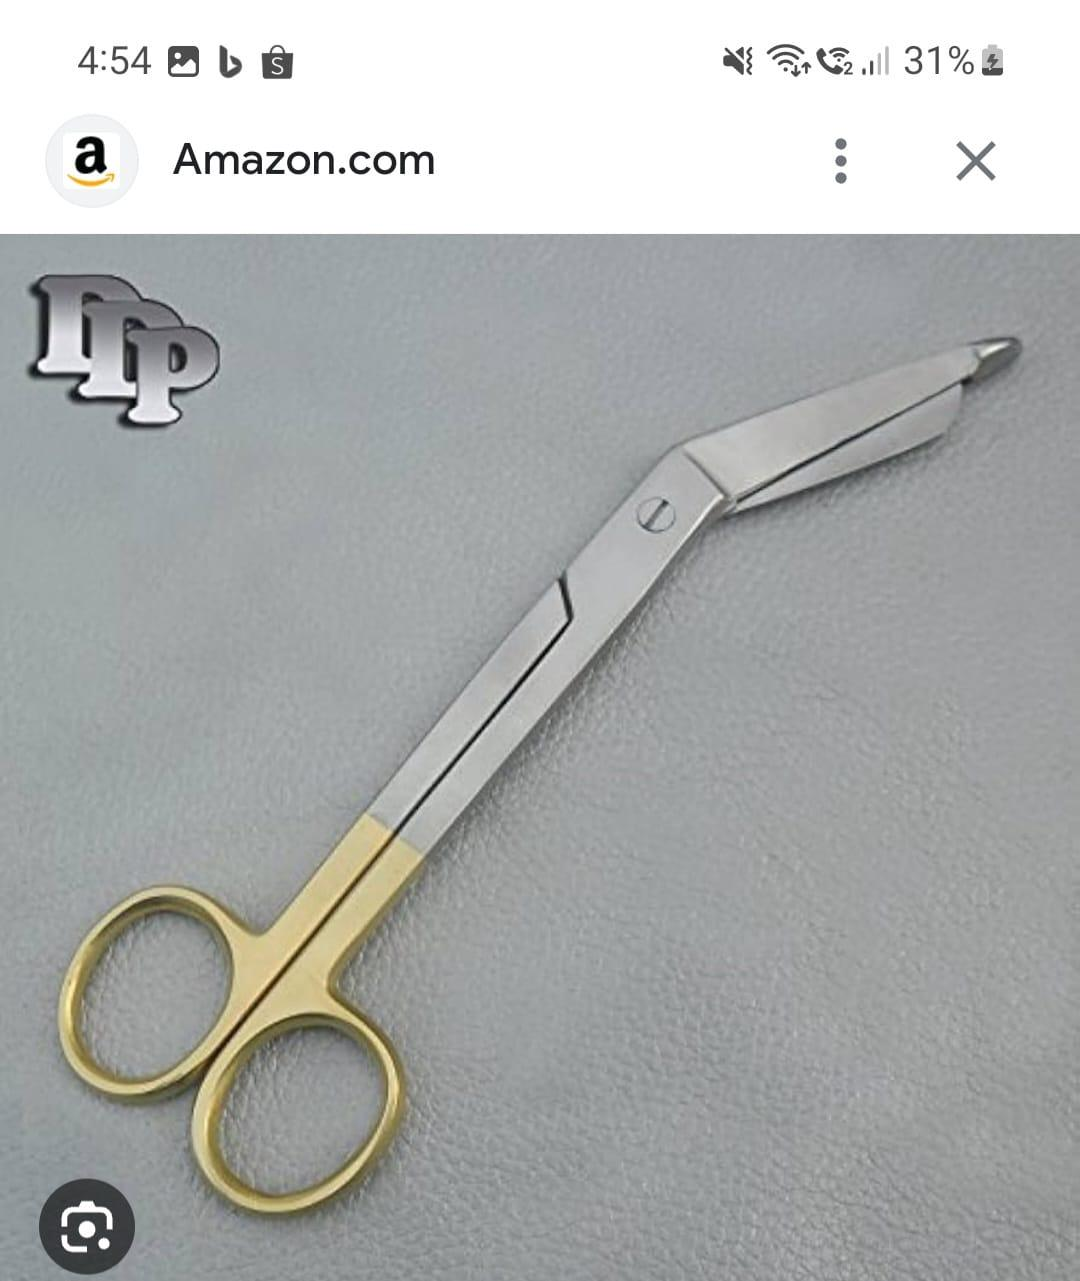Bandage Sciccors: (60, 326, 1040, 1222)
